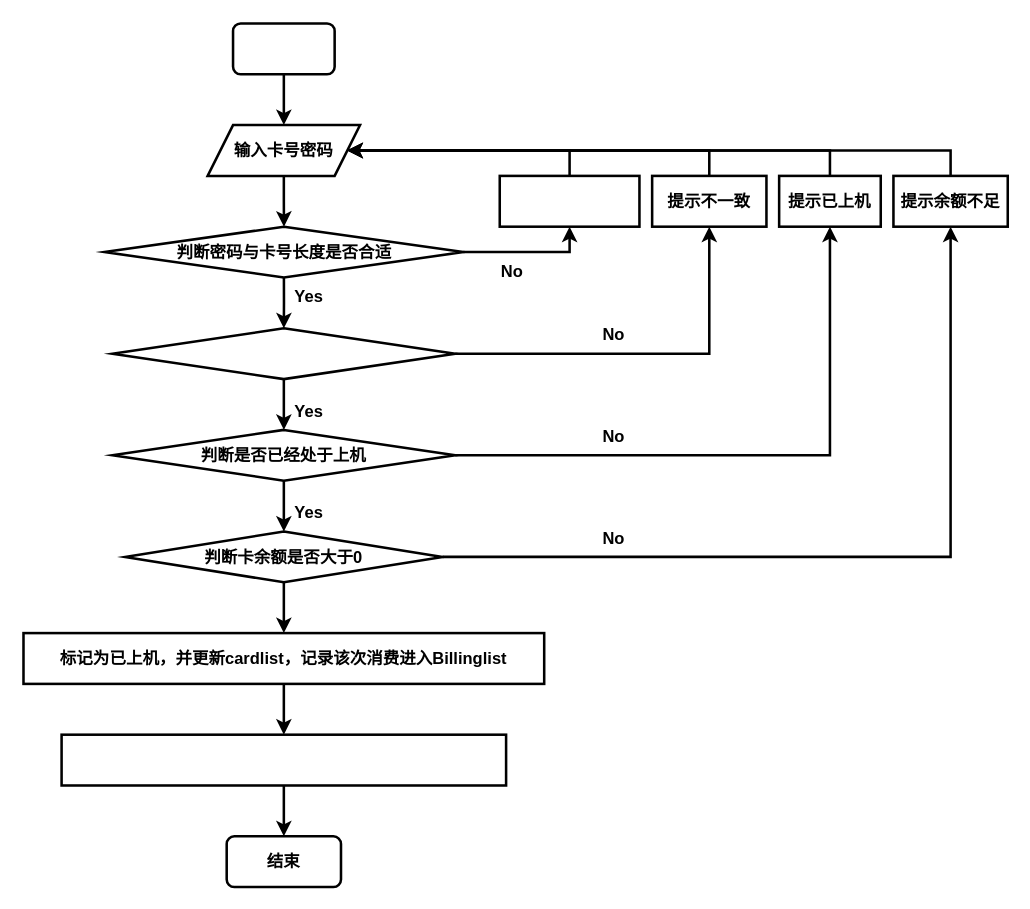
The diagram is 1030 pixels wide and 909 high, and some of its shapes have lost their labels. The centre of each missing label's shape, as x and y in pixels:
"分别将card list，billing保存进card.ams，billing.ams" belongs at (x=283, y=759).
"判断密码与卡号是否一致" belongs at (x=283, y=353).
"开始" belongs at (x=283, y=48).
"提示长度不合适" belongs at (x=569, y=200).
